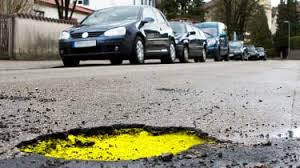pothole: (15, 124, 231, 161)
